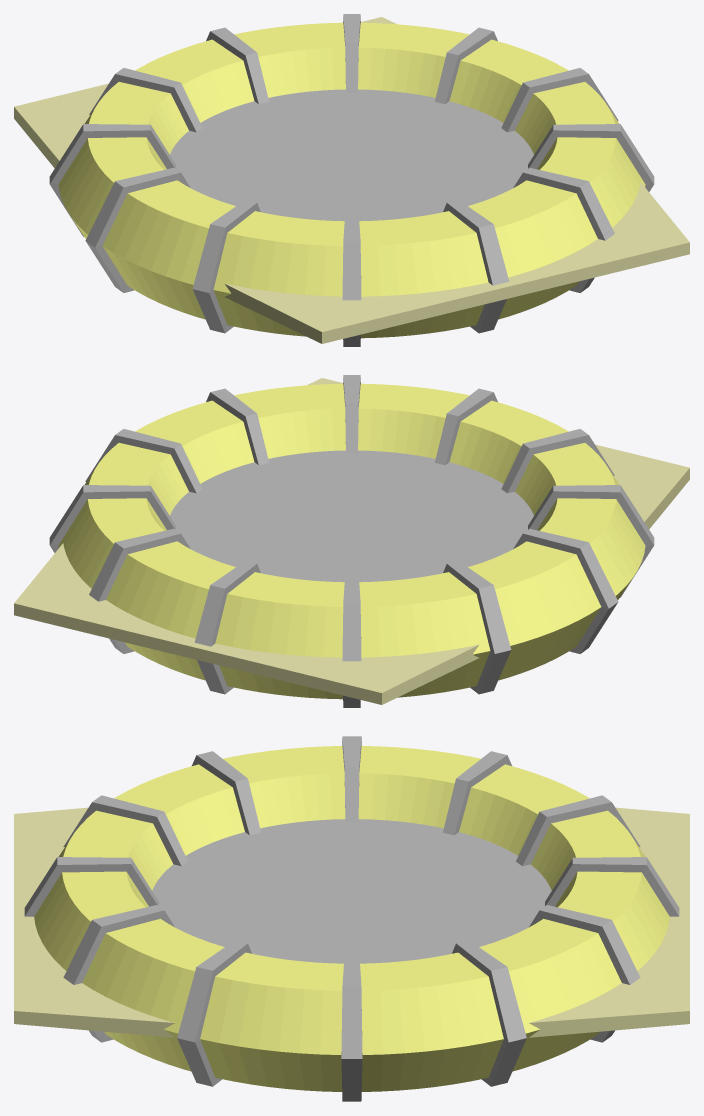
Rendered from ClockTower.fbx.
3 renders of one model, top to bottom at view 1: azimuth 30°, elevation 25°; view 2: azimuth 150°, elevation 25°; view 3: azimuth 270°, elevation 25°, orthographic. The views are drawn at different scales.
Parts seen in each view (by area): view 1: Torus.001, Cylinder, Cube; view 2: Torus.001, Cylinder, Cube; view 3: Torus.001, Cylinder, Cube.
Boxes of the visible parts, x1,y1,x2,y2 form: Torus.001: (49, 14, 654, 346); Cylinder: (170, 89, 533, 221); Cube: (14, 17, 689, 343); Torus.001: (49, 375, 654, 707); Cylinder: (170, 450, 533, 582); Cube: (14, 378, 689, 704); Torus.001: (24, 736, 679, 1101); Cylinder: (152, 819, 551, 963); Cube: (14, 807, 689, 1037).
Size of the model in its own units: 257 by 49.69 by 262.
